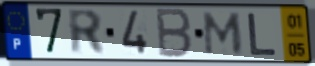4: (120, 9, 151, 57)
7: (33, 6, 65, 57)
B: (156, 6, 194, 60)
L: (247, 11, 279, 57)
M: (203, 11, 244, 57)
R: (66, 8, 108, 57)
